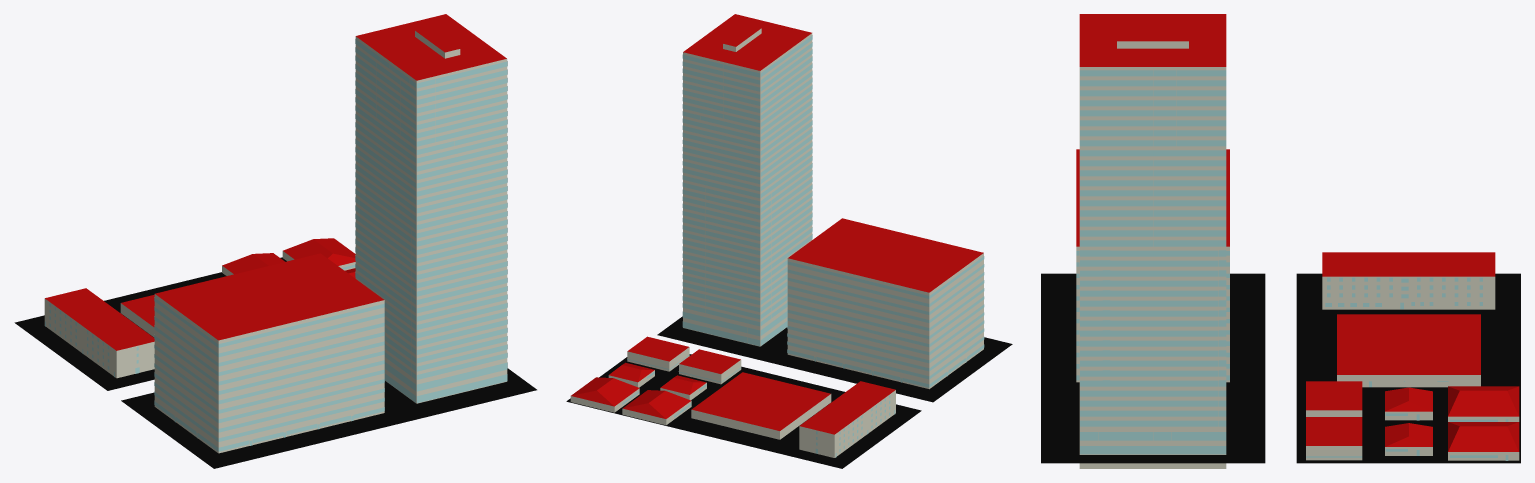
The picture shows the model from 3 angles, left to right: view 1: azimuth 30°, elevation 25°; view 2: azimuth 150°, elevation 25°; view 3: azimuth 270°, elevation 25°; orthographic projection. The views are drawn at different scales.
Parts seen in each view (by area): view 1: Windows, Walls, Roofs, Ground; view 2: Walls, Windows, Roofs, Ground; view 3: Windows, Walls, Roofs, Ground.
Boxes of the visible parts, x1,y1,x2,y2 form: Windows: (45,39,507,451); Walls: (44,31,507,453); Roofs: (45,14,506,350); Ground: (14,257,536,468); Walls: (570,28,983,457); Windows: (622,35,984,457); Roofs: (571,14,983,434); Ground: (566,316,1012,468); Windows: (1076,70,1508,460); Walls: (1076,41,1519,468); Roofs: (1076,14,1519,451); Ground: (1041,273,1520,463).
Size of the model in its own units: 142 by 143 by 152.
